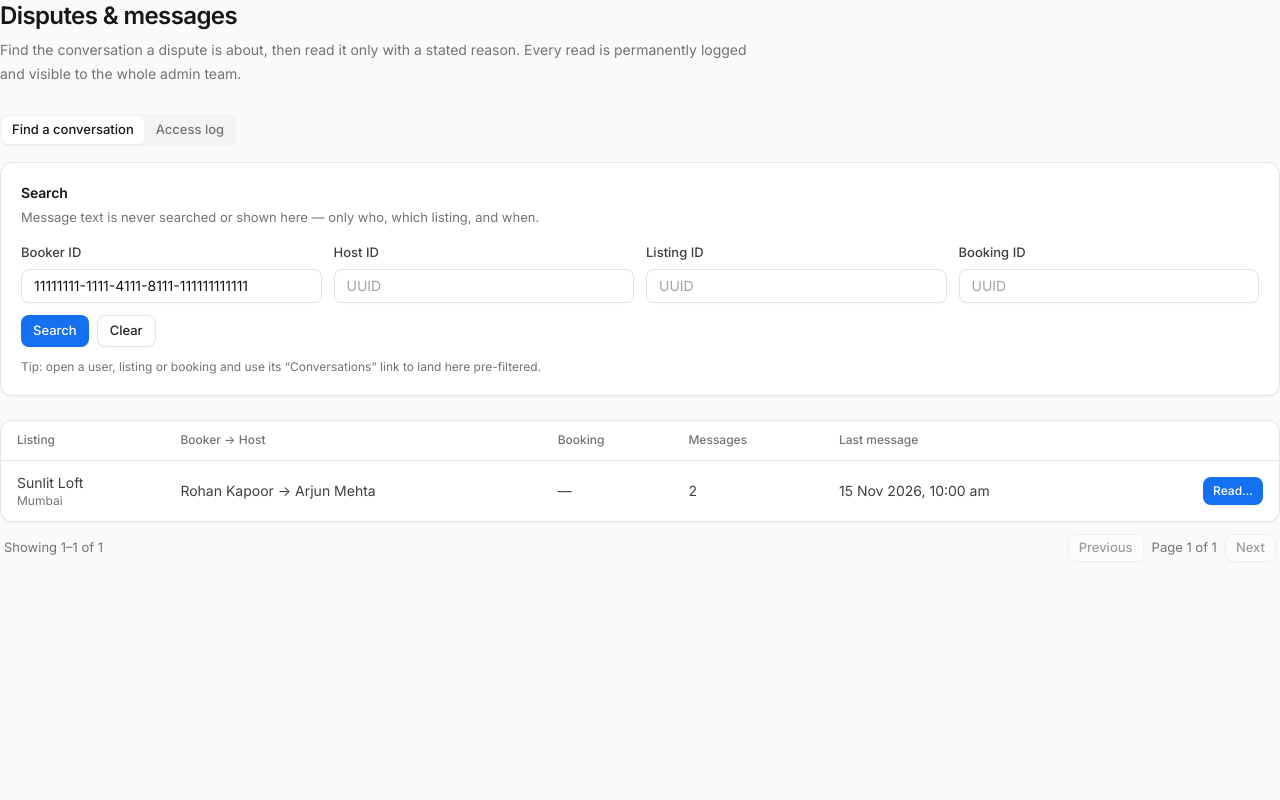
Scenario: Disputes & messages page › requires a real reason before reading, sends it, and shows the transcript
Click the button "Read…" at coordinates (1233, 491), box [1203,477,1263,505]
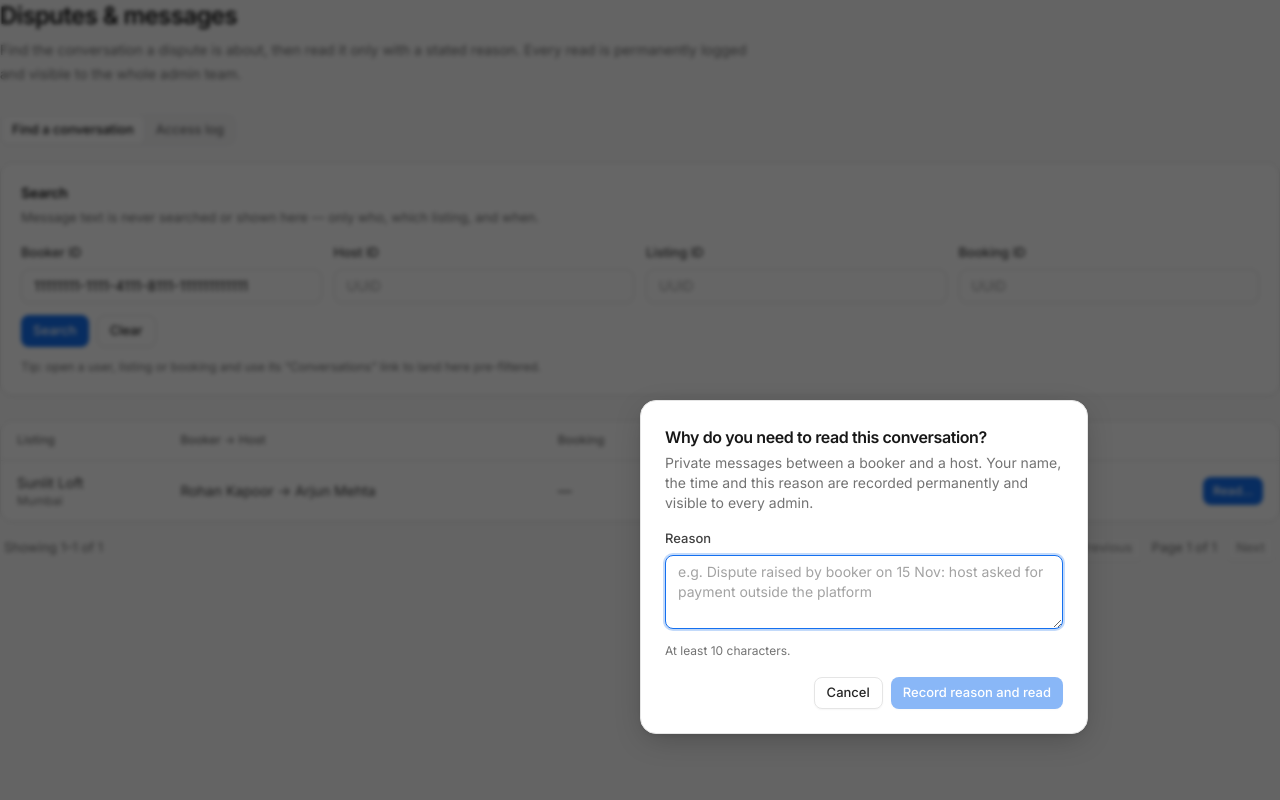
Type "short" into the text box labelled "Reason" at coordinates (864, 592), box [665,554,1063,628]
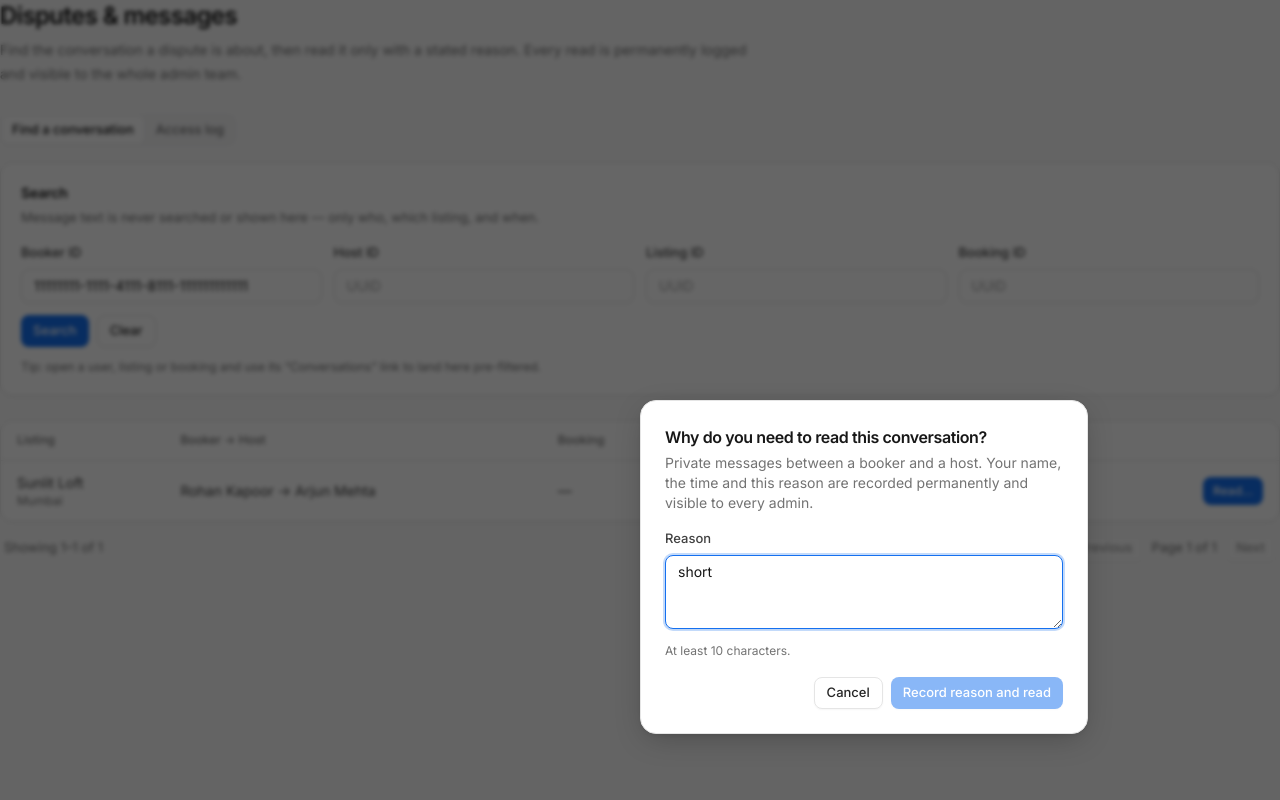
Check: the button "Record reason and read" is disabled, box [891,676,1063,708]
Type " but now long enough" into the text box labelled "Reason" at coordinates (864, 592), box [665,554,1063,628]
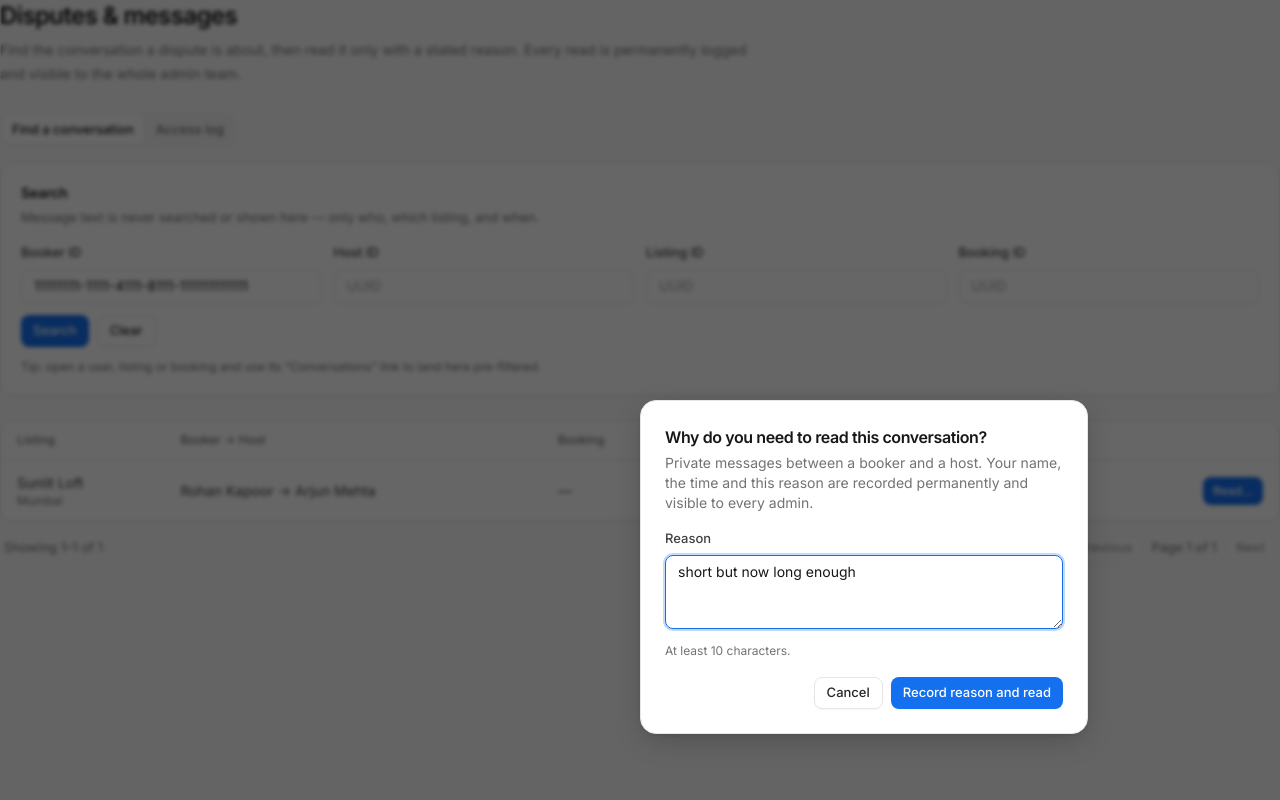
Click the button "Record reason and read" at coordinates (977, 692), box [891,676,1063,708]
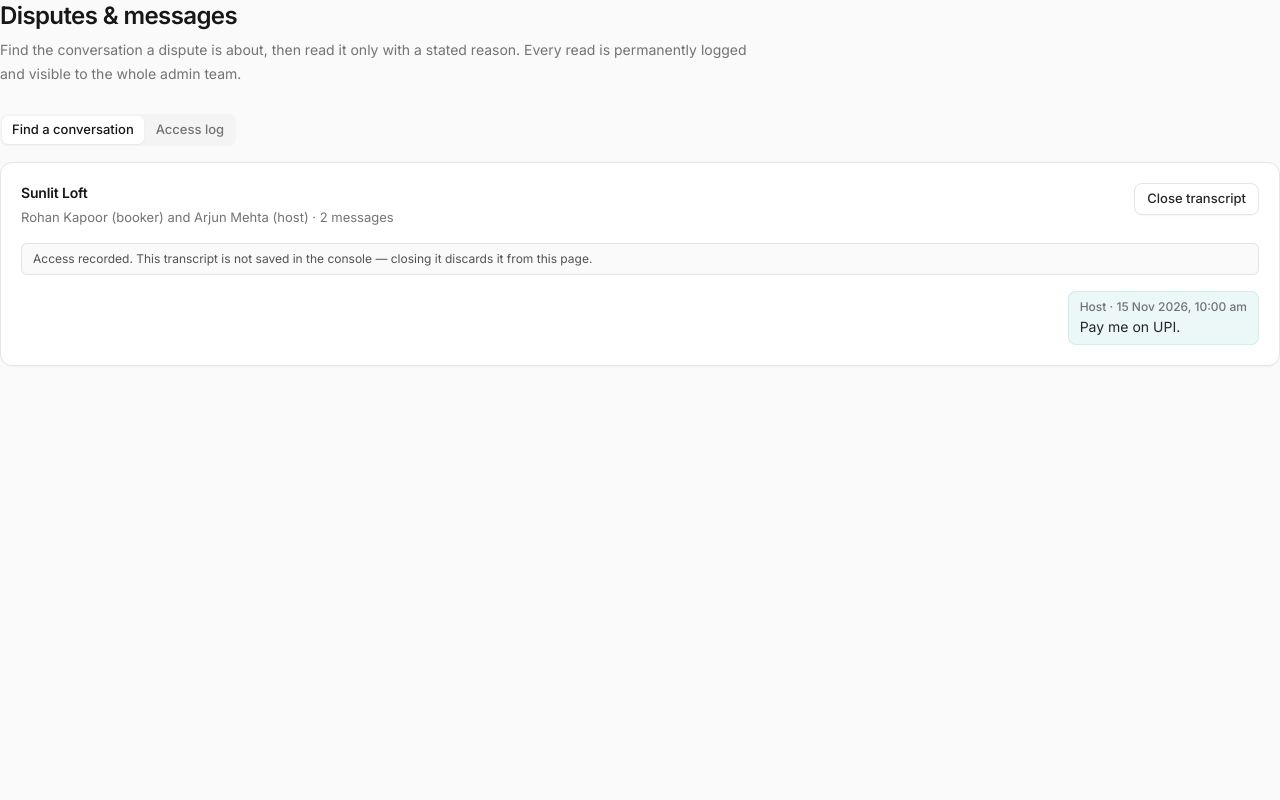
Check: the text "Pay me on UPI." is shown, box [1080,318,1180,335]
Check: the text "Access recorded" is shown, box [33,251,592,266]
